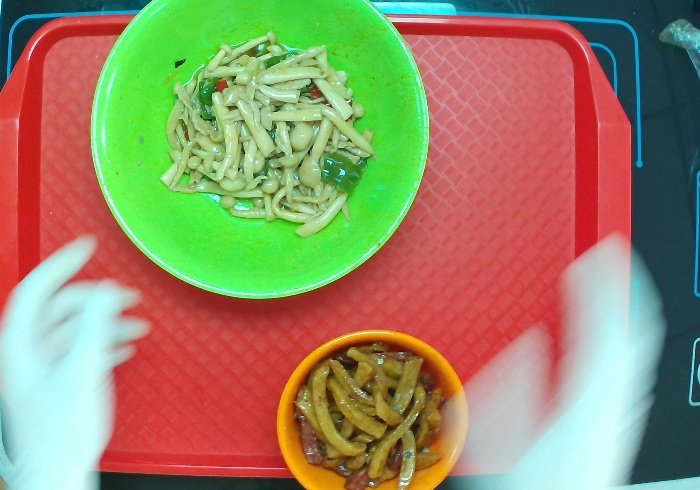YKMZ-Ju_Se_Yuan_Wan: (275, 328, 470, 490)
YKMZ-Lv_Se_Tang_Wan: (89, 1, 431, 301)
